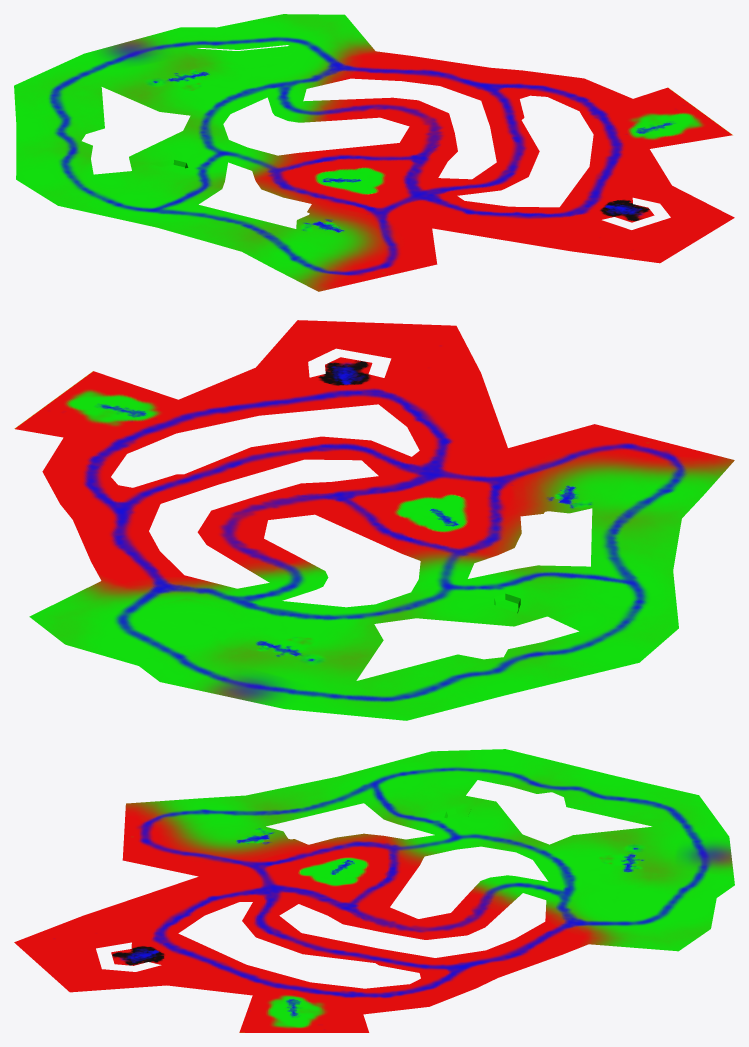
File: dixing_wamugaodi.FBX
The picture shows the model from 3 angles, top to bottom: view 1: azimuth 30°, elevation 25°; view 2: azimuth 150°, elevation 25°; view 3: azimuth 270°, elevation 25°; orthographic projection. The views are drawn at different scales.
Parts seen in each view (by area): view 1: dimian; view 2: dimian; view 3: dimian.
Boxes of the visible parts, left/top/right/bottom form: dimian: left=14, top=14, right=734, bottom=291; dimian: left=14, top=320, right=734, bottom=720; dimian: left=14, top=749, right=734, bottom=1032.
Size of the model in its own units: 363 by 2.5 by 390.
1 material, 1 textured.
